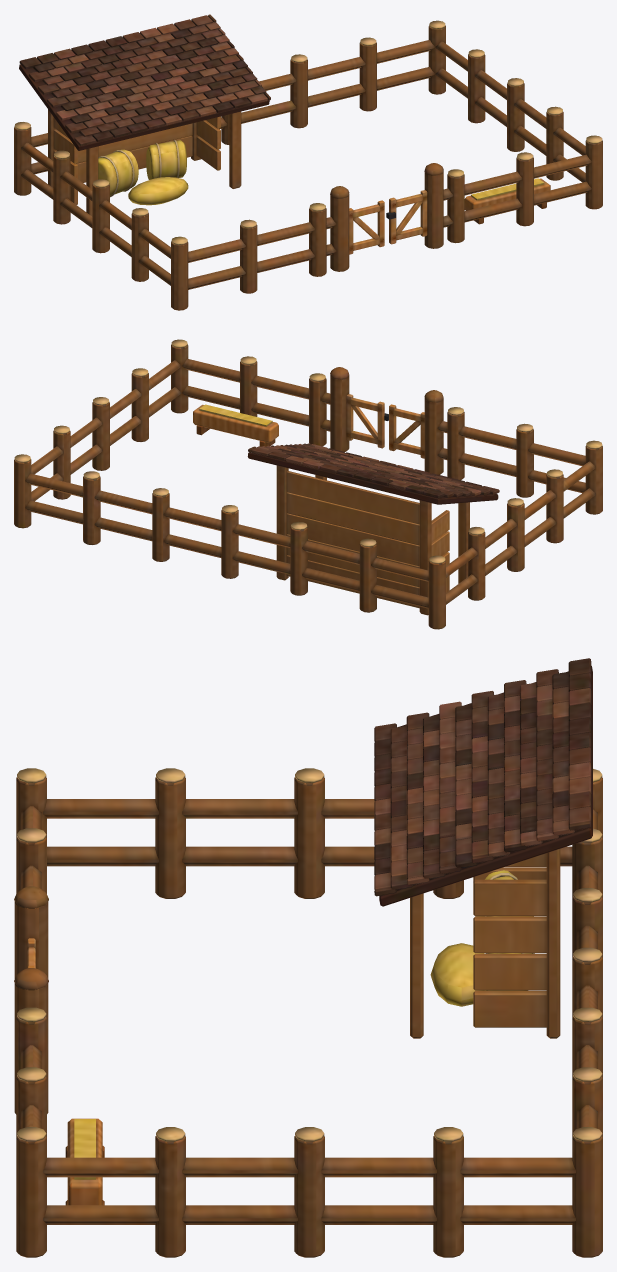
Rendered from yak_pasture.glb.
3 views of the same model, one above another, from view 1: azimuth 30°, elevation 25°; view 2: azimuth 150°, elevation 25°; view 3: azimuth 270°, elevation 25° (orthographic). The views are drawn at different scales.
Visible parts, largest first — view 1: yak_pasture, gate1, gate0; view 2: yak_pasture, gate1, gate0; view 3: yak_pasture.
Part boxes in pixels (x1,y1,x2,y2): yak_pasture: (14, 14, 602, 310); gate1: (386, 190, 427, 244); gate0: (349, 200, 384, 254); yak_pasture: (14, 339, 602, 629); gate1: (346, 394, 388, 448); gate0: (389, 404, 424, 458); yak_pasture: (14, 658, 602, 1257).
Bounding box in the file's own units: 3 × 0.9342 × 2.01.
1 material, 1 textured.
